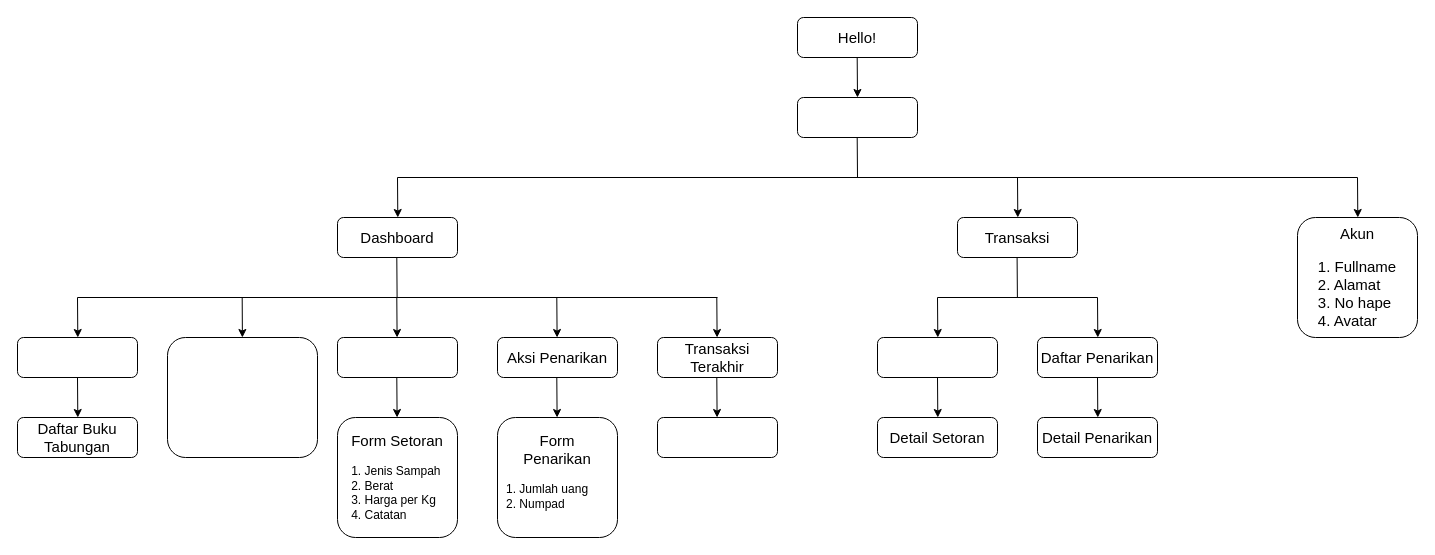
This 1435x555 diagram has some shape labels left out. Here are the shapes that lost their labels. From the top down, the centre of each, then its label:
pixel 857 117: Menu
pixel 77 357: Pilih Buku Tabungan
pixel 397 357: Aksi Setoran
pixel 937 357: Daftar Setoran
pixel 242 397: Keterangan Tabungan 1. Saldo 2. Nama Bank Sampah 3. No Buku tabungan
pixel 717 437: Detail Tranksaksi
